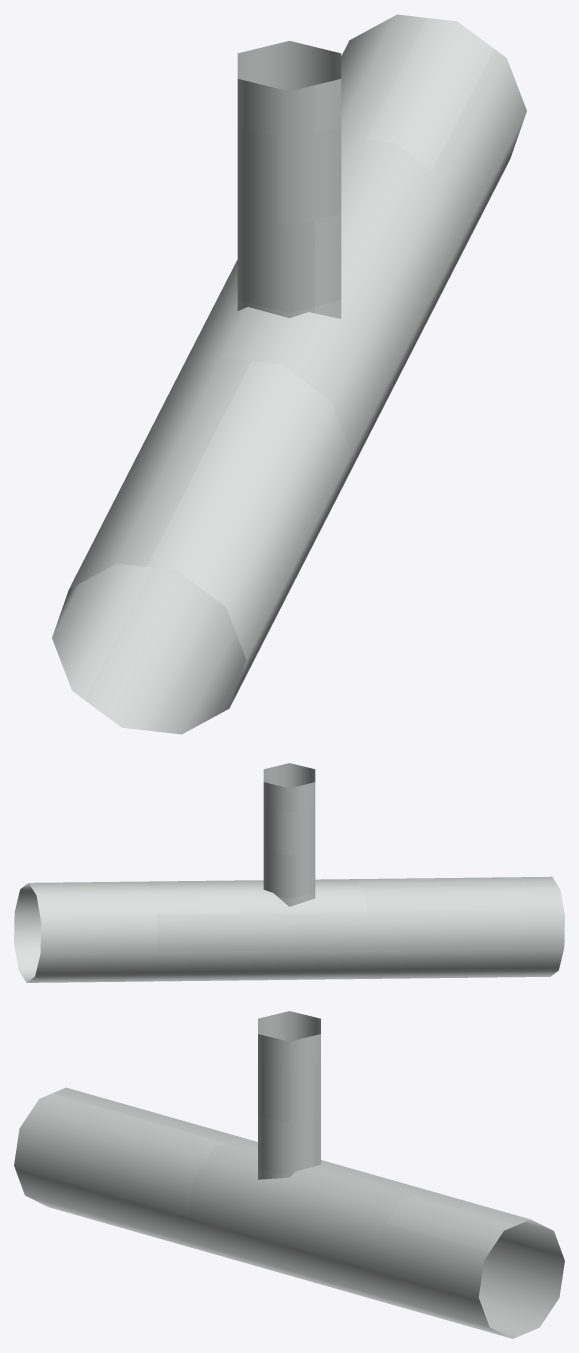
The model's file is trusssignalarm_diagonal8_c2.obj.
3 views of the same model, one above another, from view 1: azimuth 30°, elevation 25°; view 2: azimuth 150°, elevation 25°; view 3: azimuth 270°, elevation 25° (orthographic). The views are drawn at different scales.
Parts seen in each view (by area): view 1: trusssignalarm_diagonal8_c2; view 2: trusssignalarm_diagonal8_c2; view 3: trusssignalarm_diagonal8_c2.
Boxes of the visible parts, x1,y1,x2,y2 form: trusssignalarm_diagonal8_c2: [52, 14, 526, 734]; trusssignalarm_diagonal8_c2: [14, 763, 564, 982]; trusssignalarm_diagonal8_c2: [14, 1011, 564, 1338].
Bounding box in the file's own units: 1.19 × 0.6444 × 1.19.
